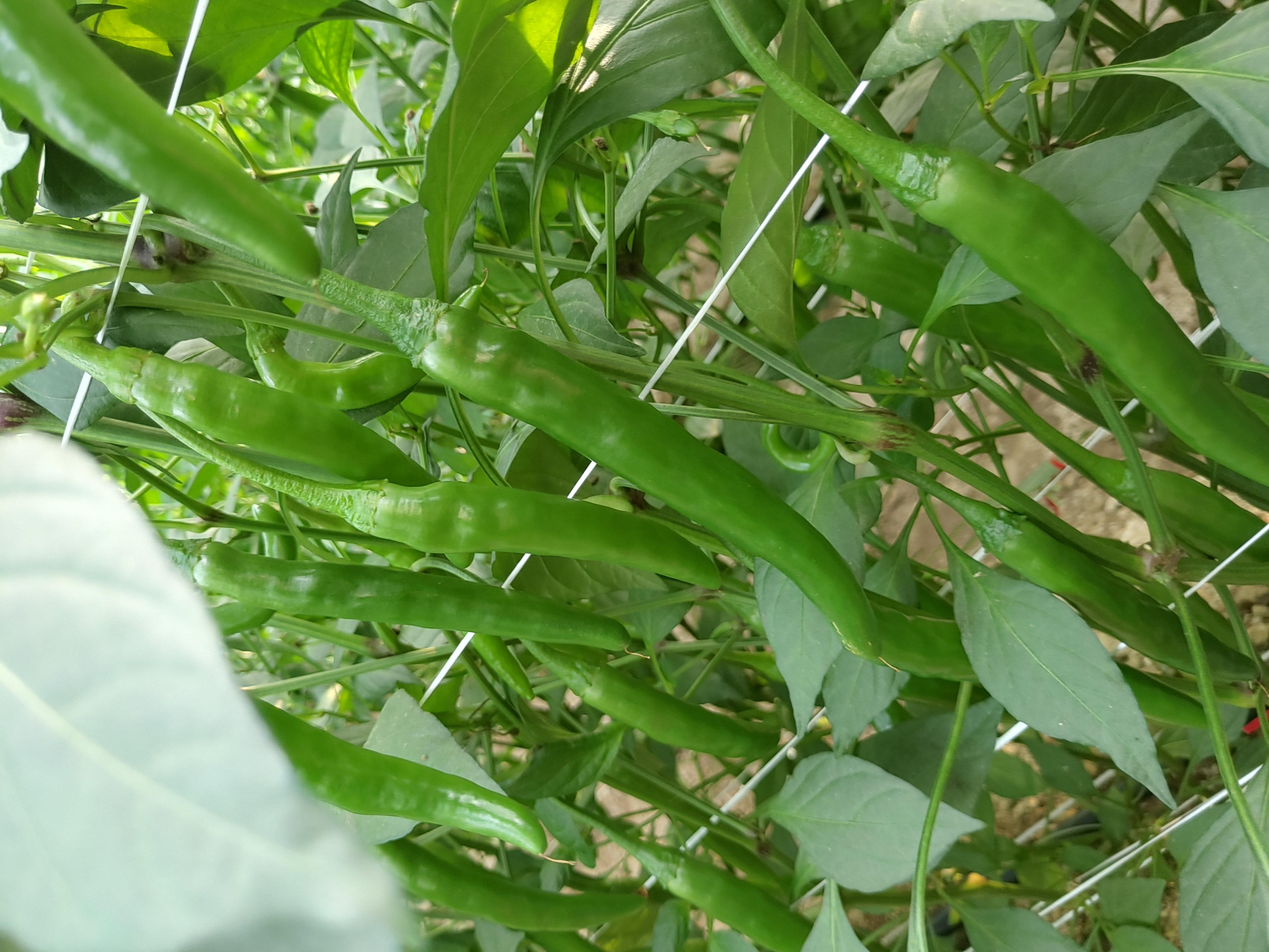Buah Cabai Sehat: (390, 298, 886, 671), (895, 142, 1269, 510), (109, 328, 426, 523), (980, 501, 1265, 702), (194, 537, 630, 663), (348, 477, 731, 595), (562, 649, 792, 772)
Daun Cabai Sehat: (949, 543, 1182, 810), (768, 748, 983, 893)
